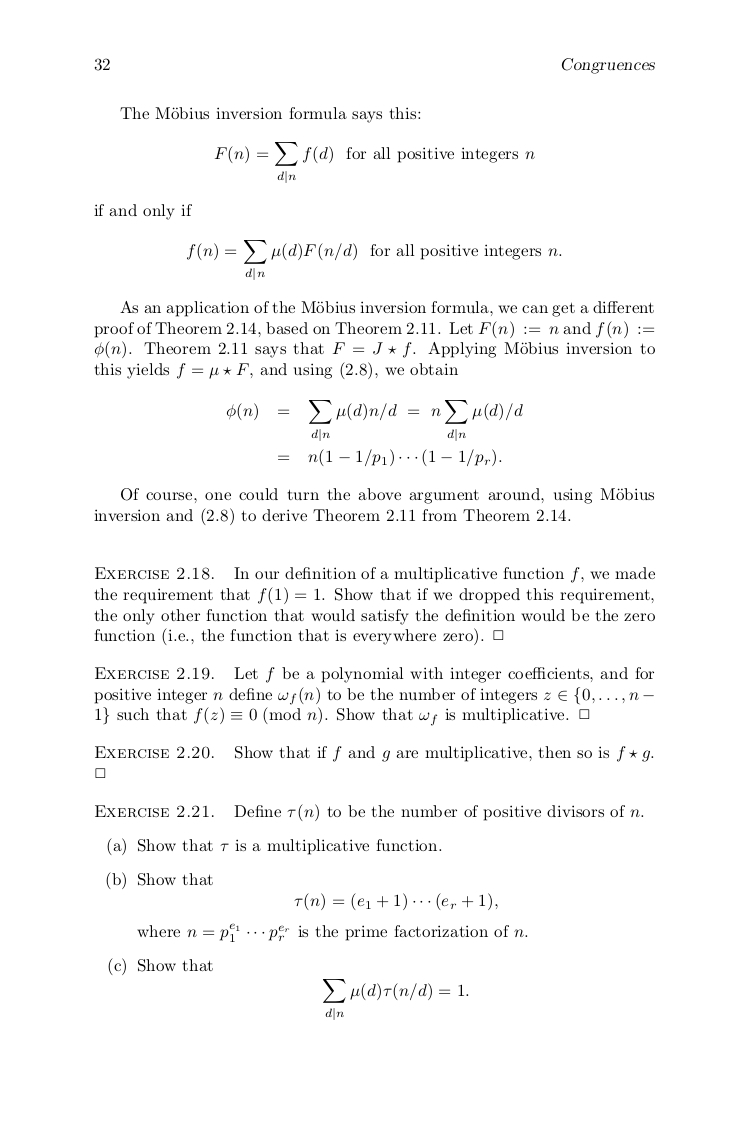formula: (187, 240, 561, 279), (214, 142, 534, 182), (226, 400, 522, 440), (323, 979, 468, 1019), (278, 448, 501, 467), (294, 892, 497, 911)
